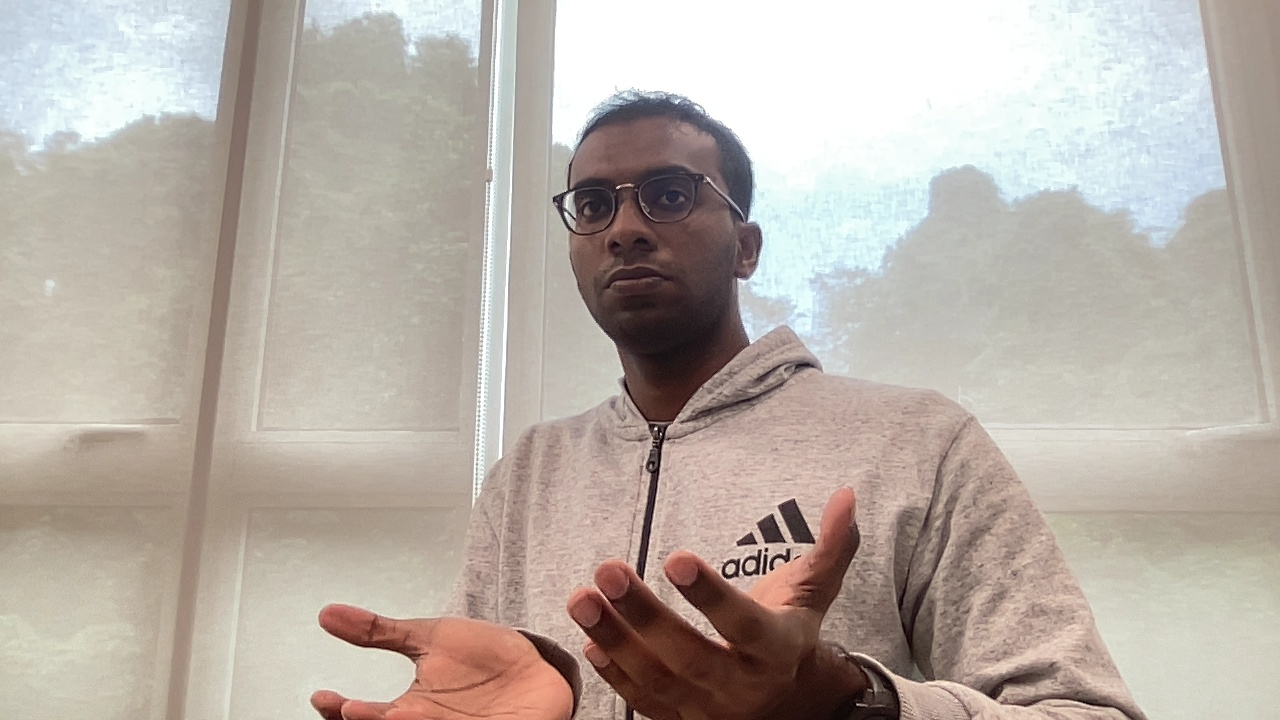give: (303, 482, 870, 720)
